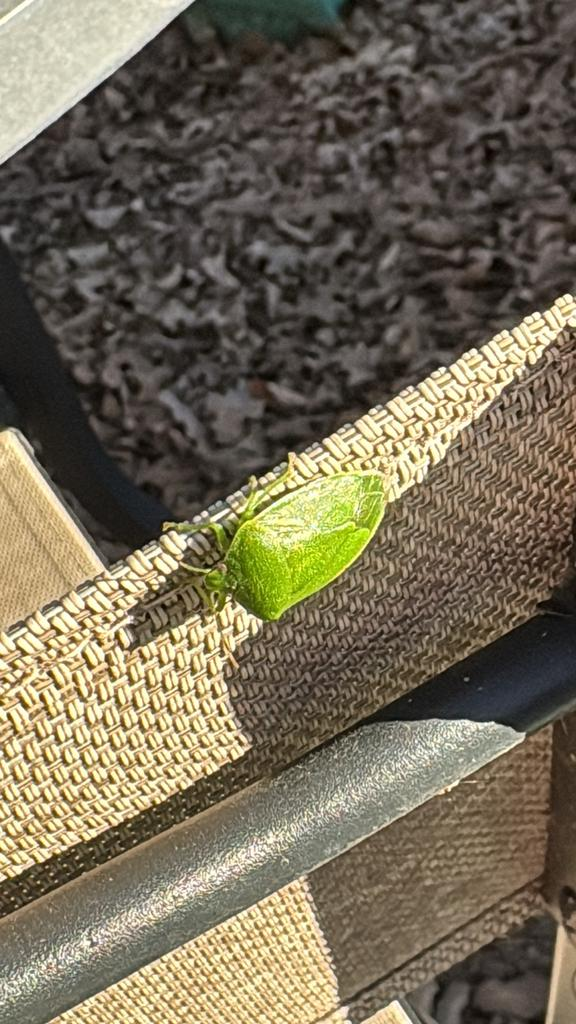stink_bugs: (131, 400, 465, 681)
